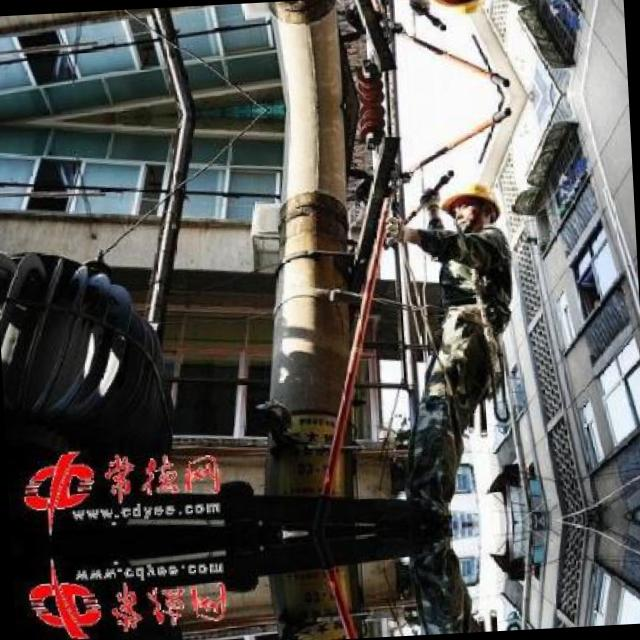helmet: (438, 180, 502, 236), (427, 0, 490, 19)
